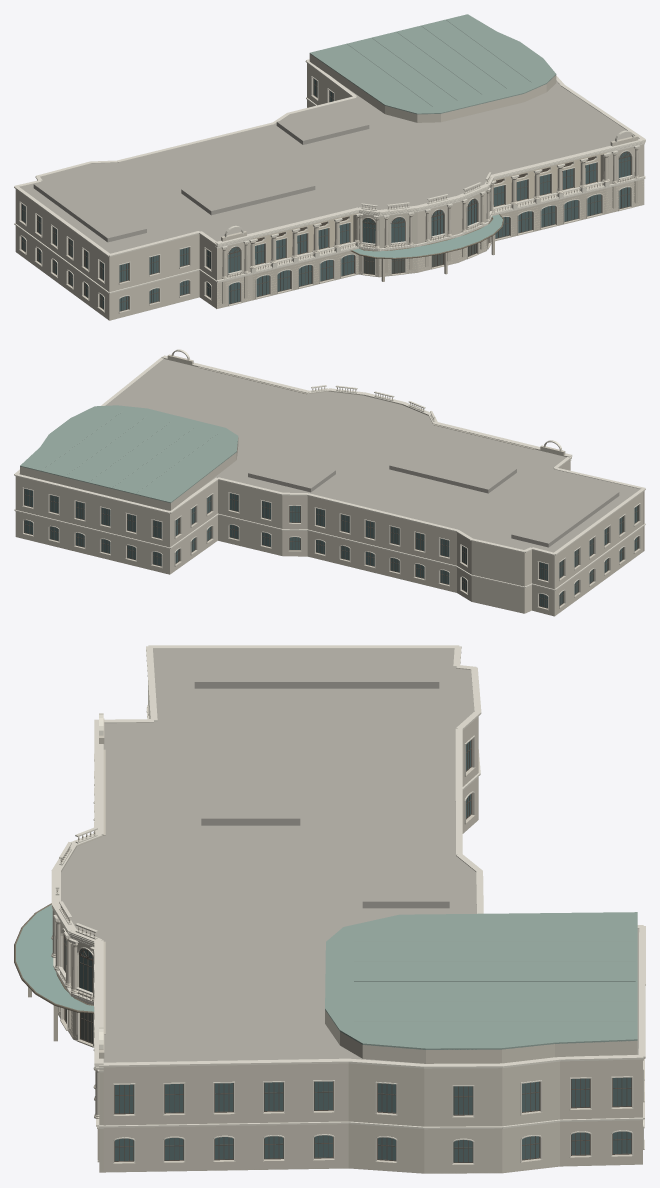
File: huangpu-french-club-lod.glb
The picture shows the model from 3 angles, top to bottom: view 1: azimuth 30°, elevation 25°; view 2: azimuth 150°, elevation 25°; view 3: azimuth 270°, elevation 25°; orthographic projection. The views are drawn at different scales.
Visible parts, largest first — view 1: 法国总会（花园饭店历史会所）; view 2: 法国总会（花园饭店历史会所）; view 3: 法国总会（花园饭店历史会所）.
Part boxes in pixels (x1,y1,x2,y2): 法国总会（花园饭店历史会所）: [14, 14, 645, 320]; 法国总会（花园饭店历史会所）: [14, 349, 645, 616]; 法国总会（花园饭店历史会所）: [14, 645, 645, 1173].
Size of the model in its own units: 107 by 15.16 by 67.69.
